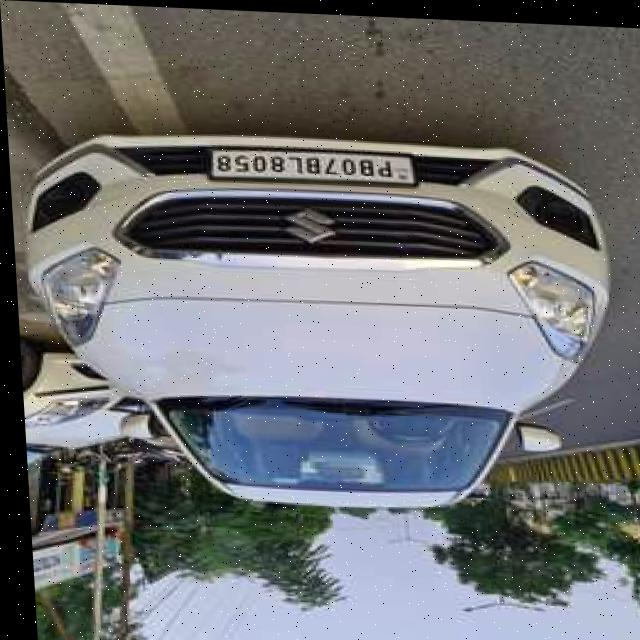plate: (203, 141, 421, 188)
